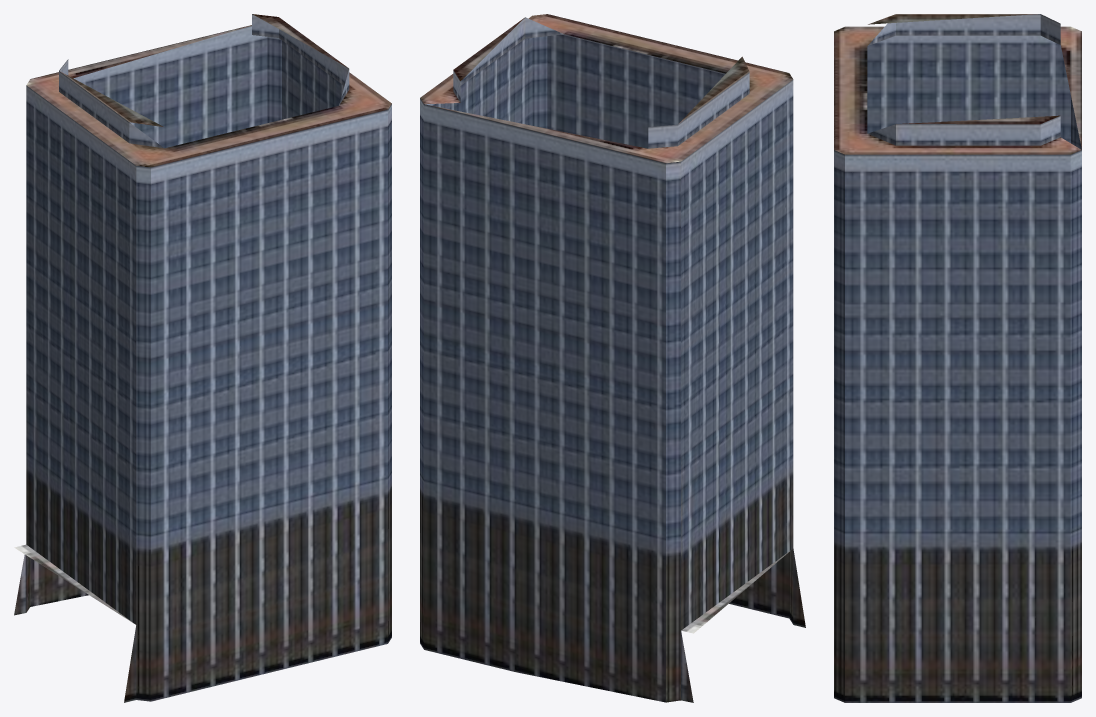
The picture shows the model from 3 angles, left to right: view 1: azimuth 30°, elevation 25°; view 2: azimuth 150°, elevation 25°; view 3: azimuth 270°, elevation 25°; orthographic projection. The views are drawn at different scales.
Visible parts, largest first — view 1: b297; view 2: b297; view 3: b297.
Part boxes in pixels (left/top/right/bottom): b297: left=14, top=14, right=391, bottom=702; b297: left=420, top=14, right=805, bottom=702; b297: left=834, top=14, right=1081, bottom=702.
Bounding box in the file's own units: 43.17 × 85.46 × 33.71.
1 material, 1 textured.
